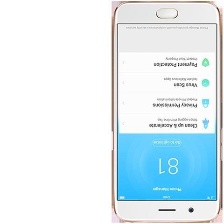phone: (109, 0, 224, 224)
